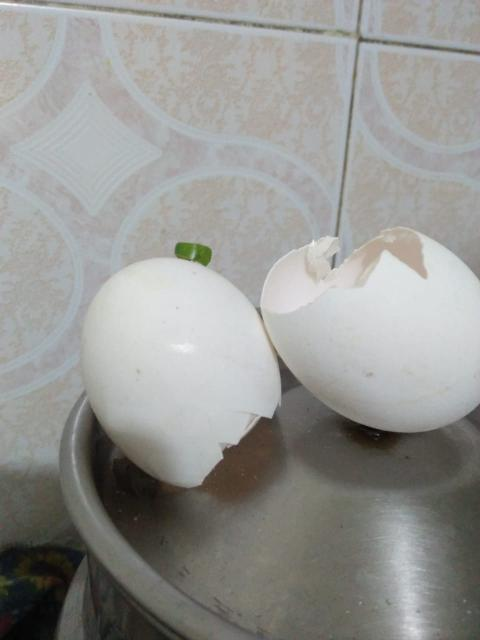Roto: (79, 243, 282, 488), (260, 225, 479, 434)
